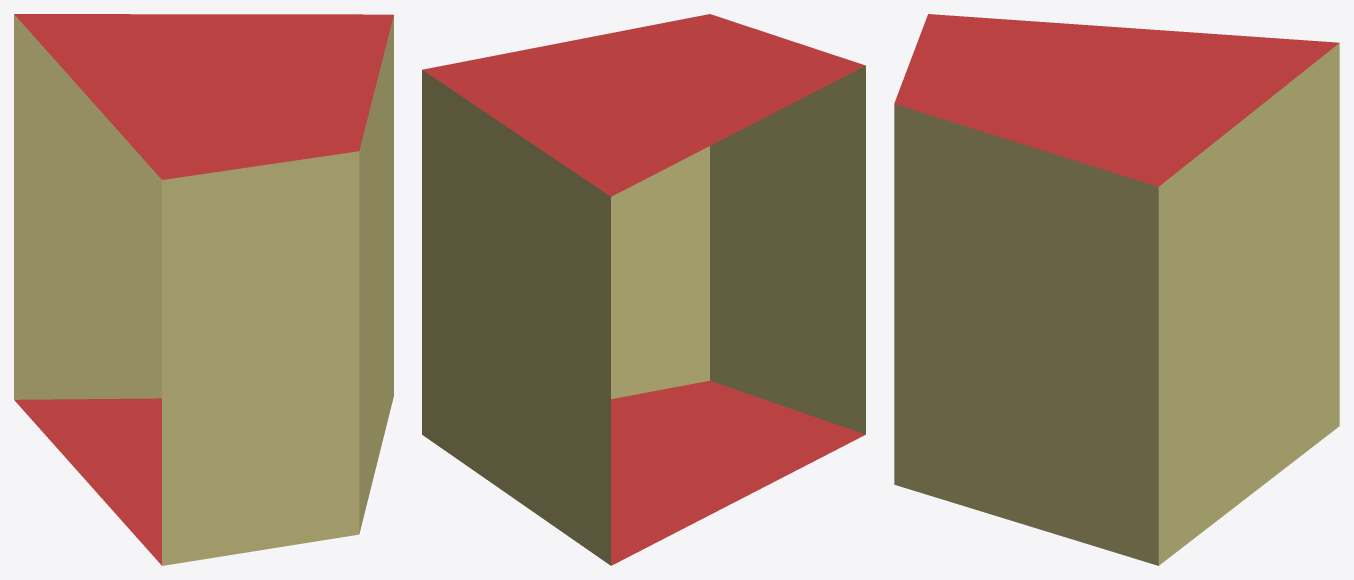
The picture shows the model from 3 angles, left to right: view 1: azimuth 30°, elevation 25°; view 2: azimuth 150°, elevation 25°; view 3: azimuth 270°, elevation 25°; orthographic projection. The views are drawn at different scales.
Bounding box in the file's own units: 5.82 × 6.5 × 6.17.
